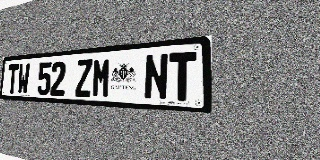2: (50, 61, 66, 96)
5: (37, 62, 52, 96)
M: (92, 57, 111, 98)
N: (144, 53, 169, 100)
T: (169, 51, 197, 101), (7, 64, 19, 94)
W: (17, 63, 30, 95)
Z: (75, 59, 93, 97)
